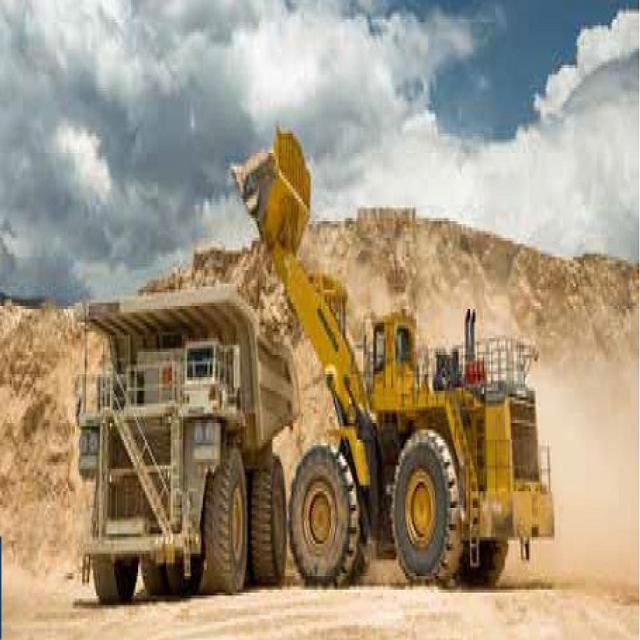buldozerpayloadergrader: (221, 104, 570, 624)
dump_truck: (61, 266, 290, 626)
